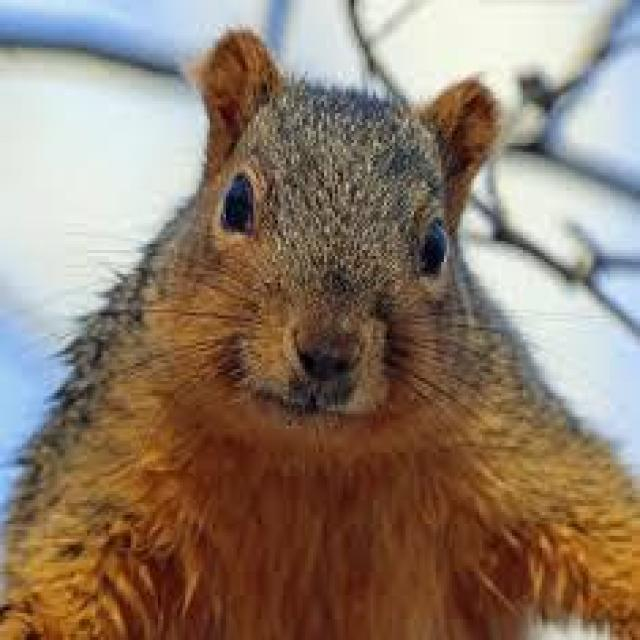license-plate: (19, 23, 640, 636)
